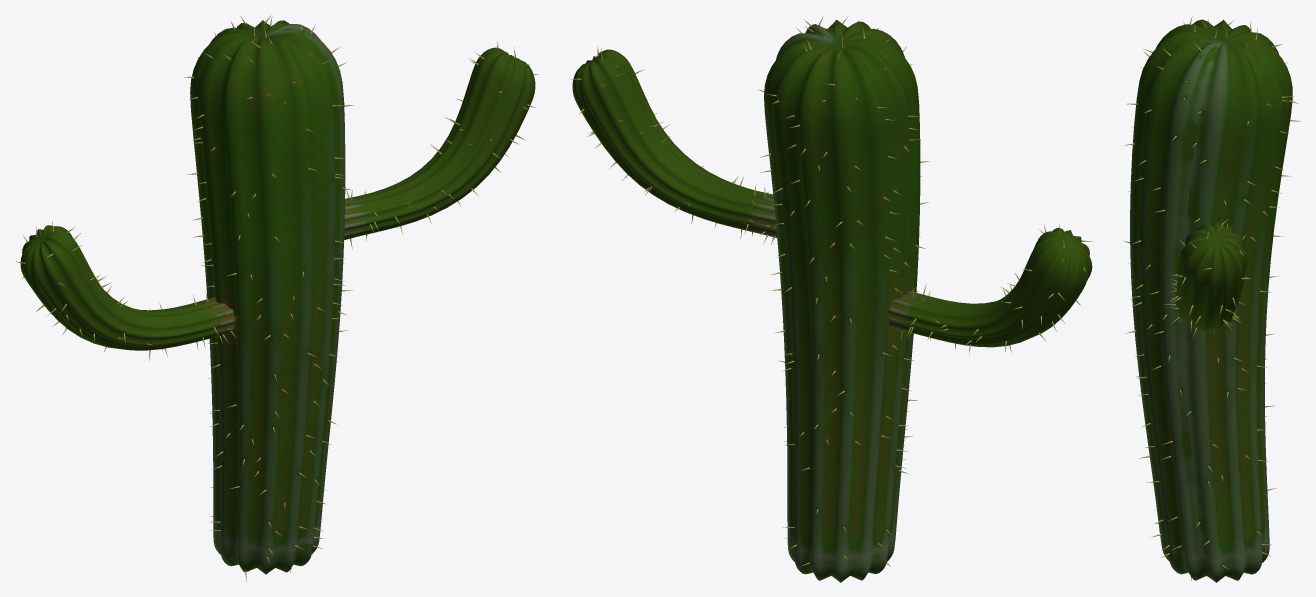
File: Cactus part3 model.fbx
3 views of the same model, side by side, from view 1: azimuth 30°, elevation 25°; view 2: azimuth 150°, elevation 25°; view 3: azimuth 270°, elevation 25° (orthographic).
Parts seen in each view (by area): view 1: Circle.002, Cone.017; view 2: Circle.002, Cone.017; view 3: Circle.002, Cone.017.
Part boxes in pixels (x1=…): Circle.002: x1=20, y1=20, x2=535, y2=574; Cone.017: x1=16, y1=15, x2=538, y2=581; Circle.002: x1=572, y1=20, x2=1092, y2=582; Cone.017: x1=570, y1=15, x2=1092, y2=566; Circle.002: x1=1130, y1=19, x2=1292, y2=582; Cone.017: x1=1124, y1=16, x2=1301, y2=580.
Size of the model in its own units: 442 by 445 by 132.
